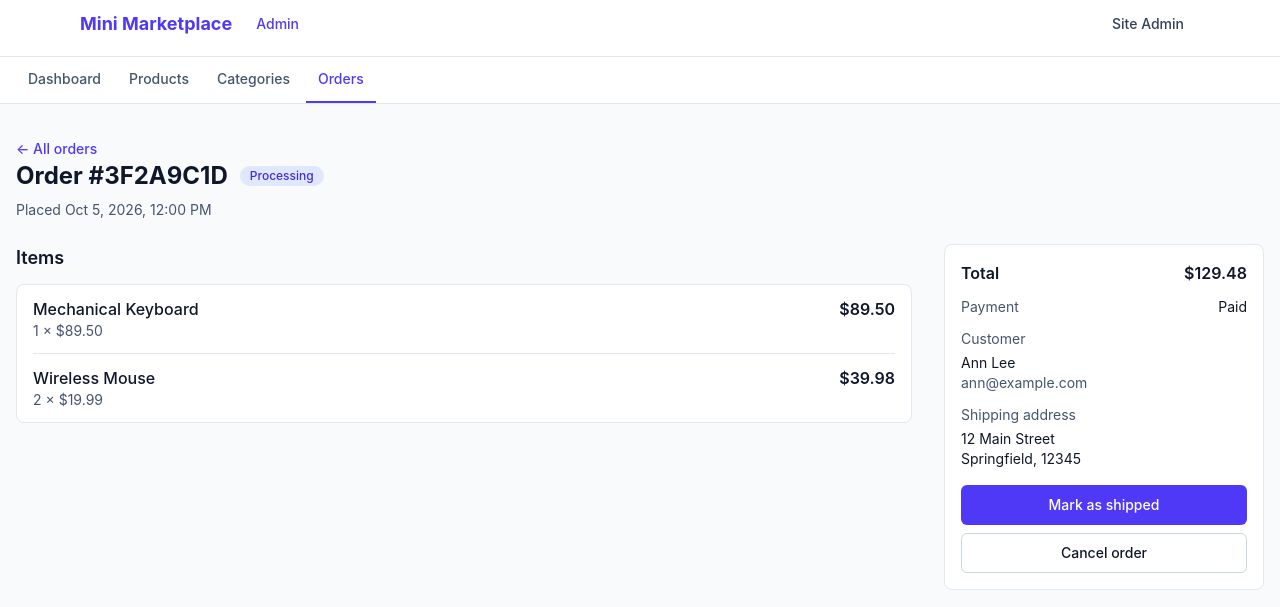
an admin order page › ships an order at once and shows the new status
Click the button "Mark as shipped".
click(1104, 505)  # box [961, 485, 1247, 525]
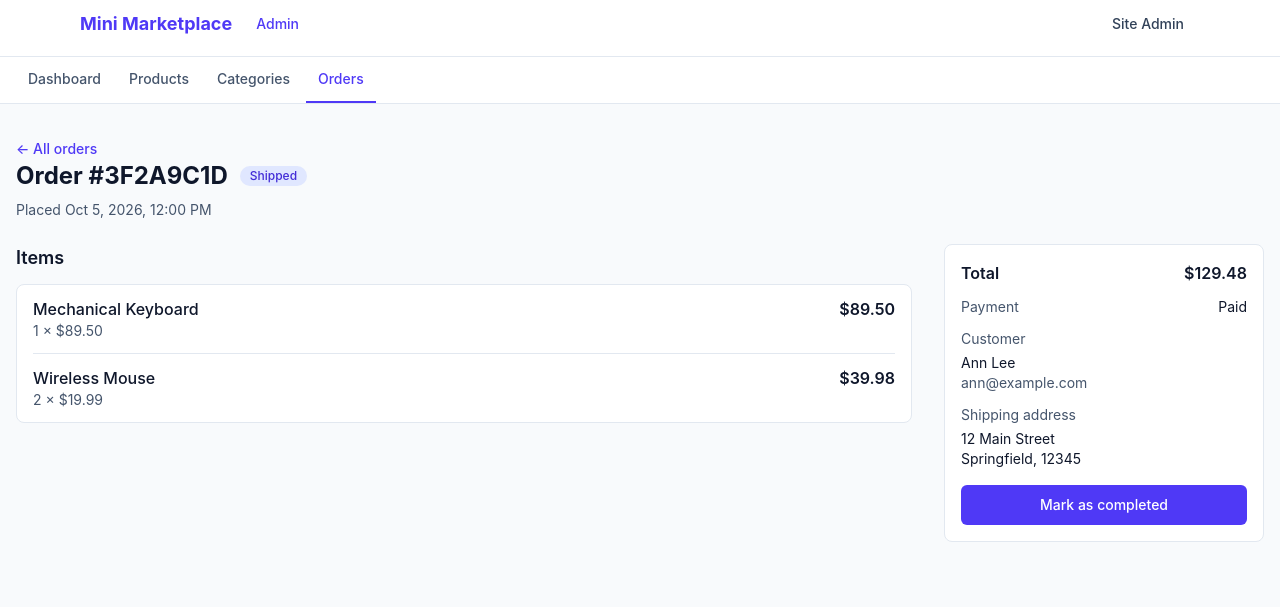
Expected: the button "Mark as completed" is shown, [961, 485, 1247, 525]
Expected: the button "Mark as shipped" is gone
